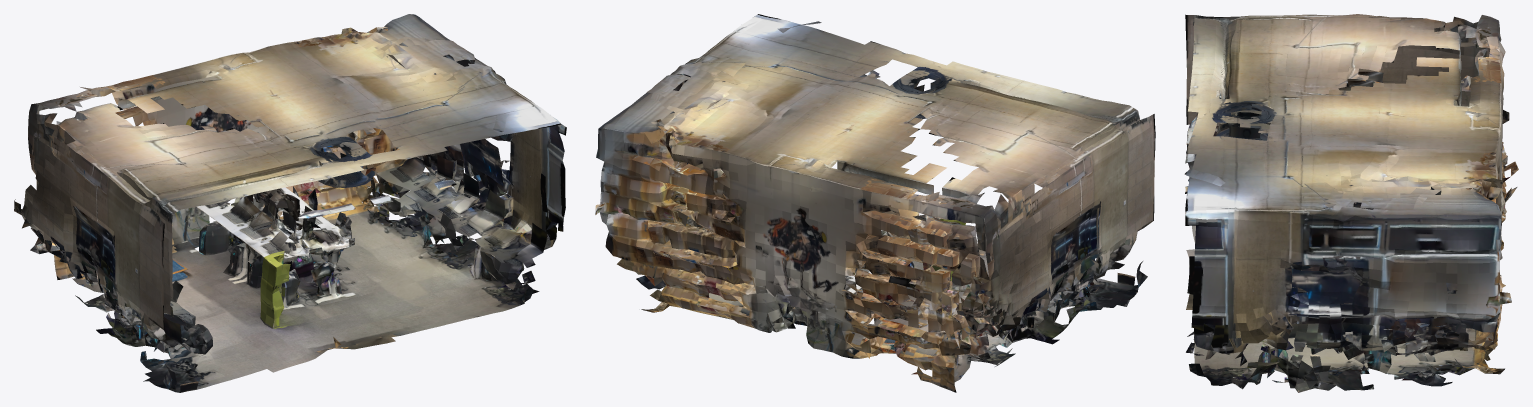
3 views of the same model, side by side, from view 1: azimuth 30°, elevation 25°; view 2: azimuth 150°, elevation 25°; view 3: azimuth 270°, elevation 25° (orthographic). The views are drawn at different scales.
Visible parts, largest first — view 1: 1_m104_2-IM; view 2: 1_m104_2-IM; view 3: 1_m104_2-IM.
Boxes of the visible parts, left/top/right/bottom form: 1_m104_2-IM: left=14, top=14, right=566, bottom=392; 1_m104_2-IM: left=595, top=14, right=1155, bottom=392; 1_m104_2-IM: left=1184, top=14, right=1518, bottom=392.
Bounding box in the file's own units: 795 × 345 × 530.
Materials: 1 (1 with a texture image).
